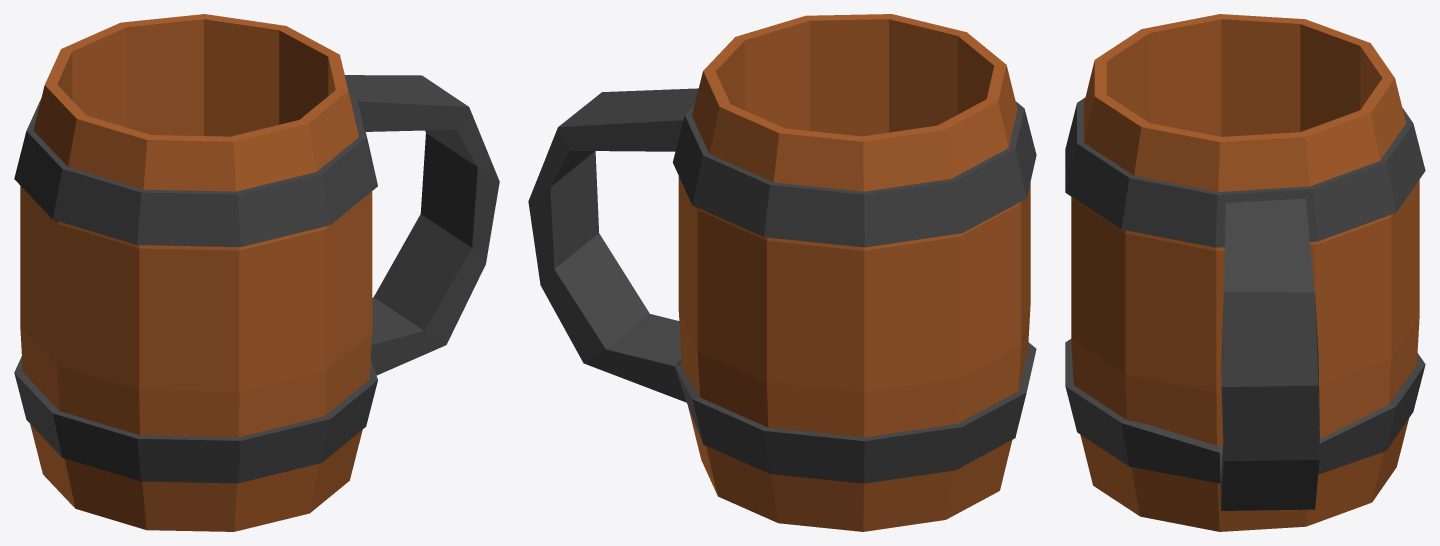
File: ancient_wooden_beer_mug_-_low_poly.glb
3 views of the same model, side by side, from view 1: azimuth 30°, elevation 25°; view 2: azimuth 150°, elevation 25°; view 3: azimuth 270°, elevation 25° (orthographic).
Parts seen in each view (by area): view 1: BeerMug; view 2: BeerMug; view 3: BeerMug.
Part boxes in pixels (x1=…): BeerMug: x1=14, y1=14, x2=499, y2=531; BeerMug: x1=528, y1=14, x2=1036, y2=531; BeerMug: x1=1065, y1=14, x2=1425, y2=531.
Bounding box in the file's own units: 3.81 × 3.15 × 2.64.
3 materials, 3 textured.
